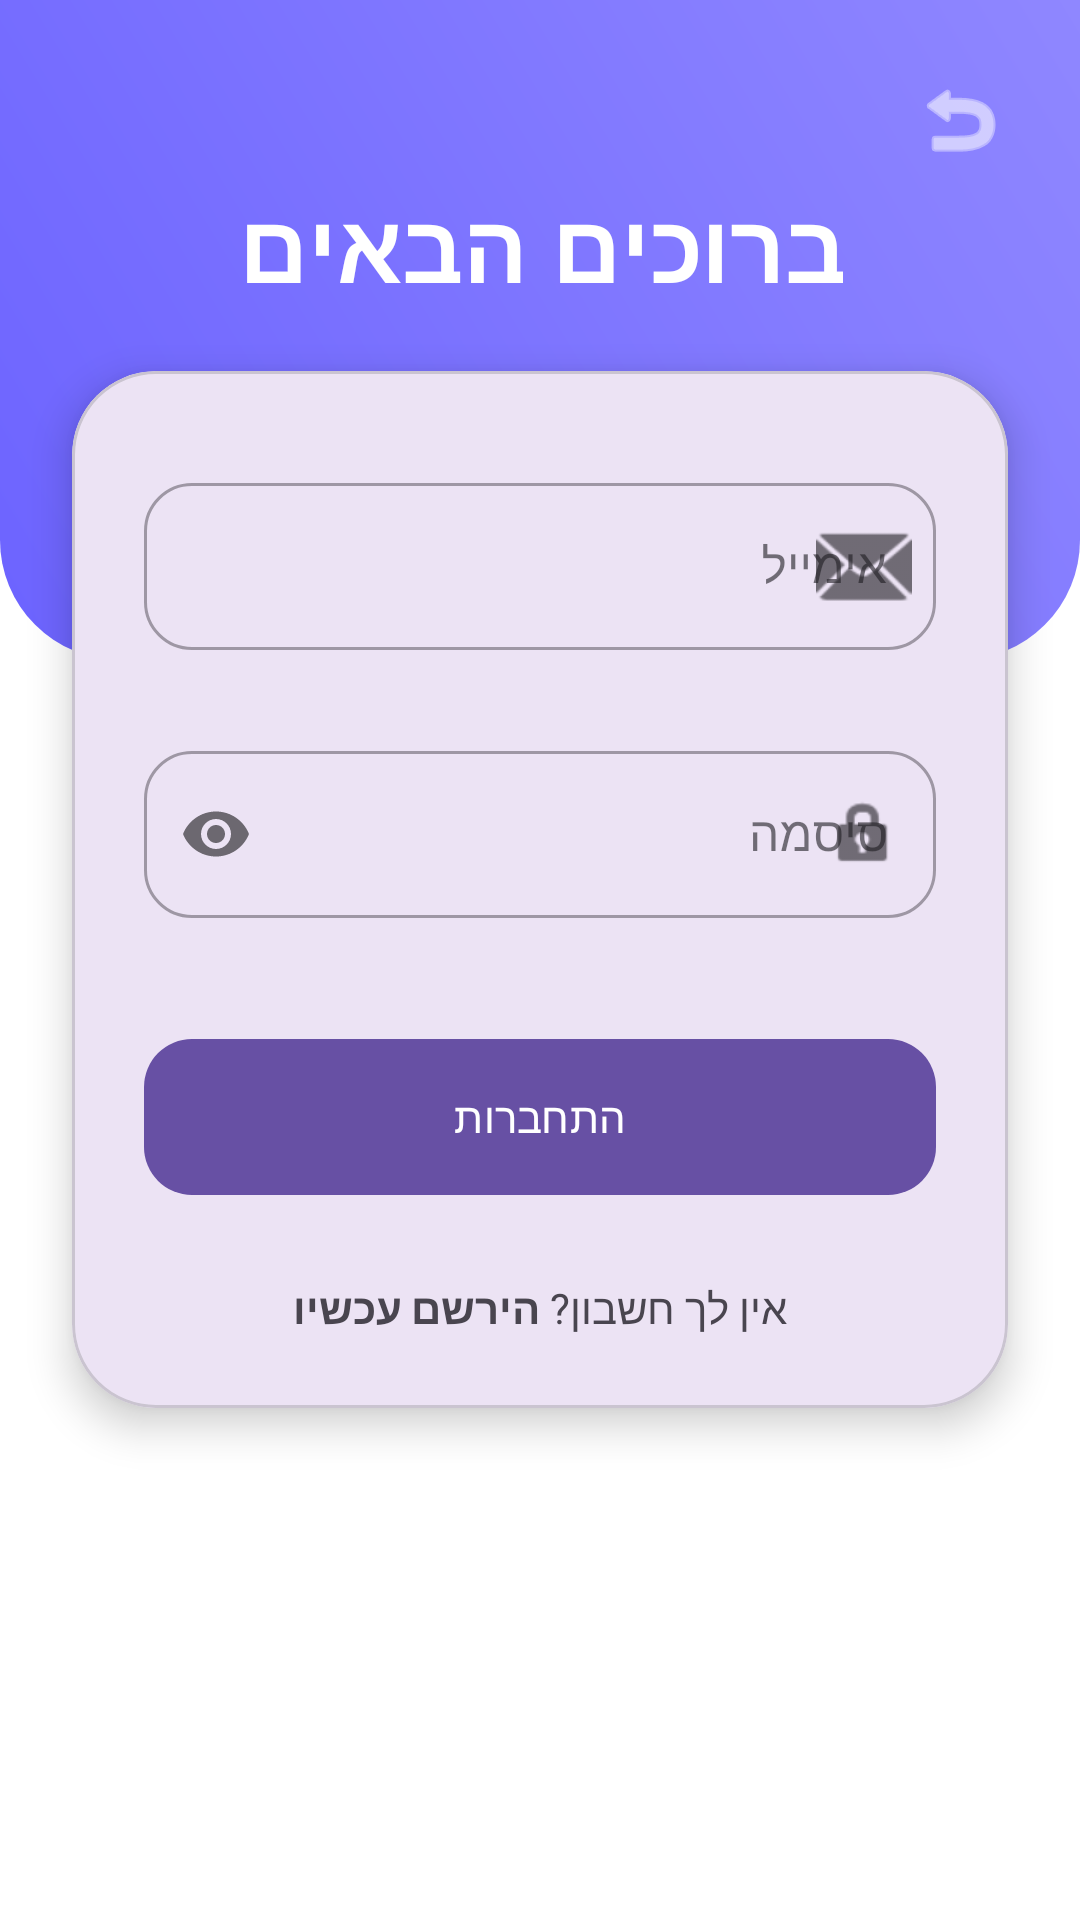

Named icons in this screenshot (1080x1920) and their centers, point (x, y):
revert: point (961, 121)
